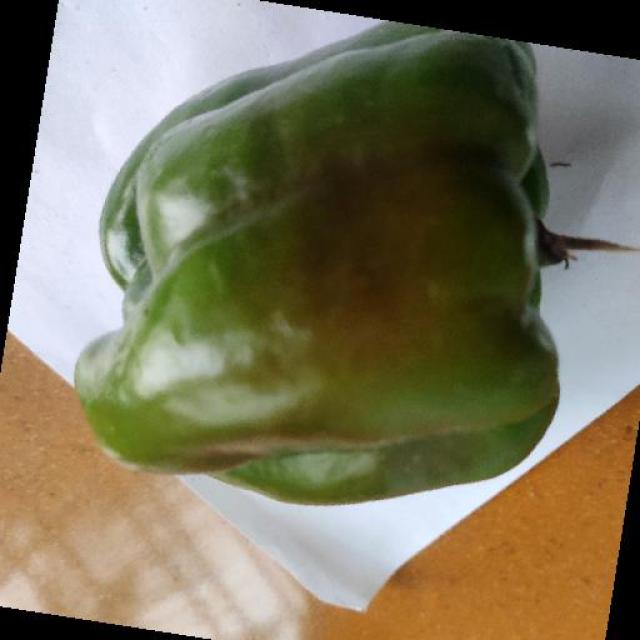Stale_Capsicum: (100, 38, 553, 506)
